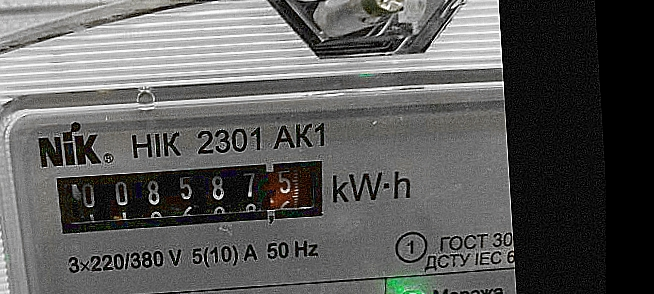0: (78, 179, 97, 209), (112, 178, 131, 207)
5: (276, 167, 295, 197), (176, 173, 195, 202)
7: (240, 168, 259, 199)
8: (208, 171, 227, 202), (144, 177, 162, 206)
screen: (37, 144, 344, 246)
